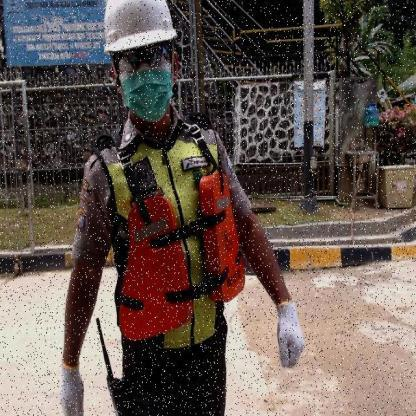gloves: (274, 298, 308, 374), (56, 355, 88, 415)
goggles: (114, 50, 174, 70)
helmet: (102, 0, 178, 49)
mask: (120, 72, 176, 121)
vest: (116, 171, 246, 345)
